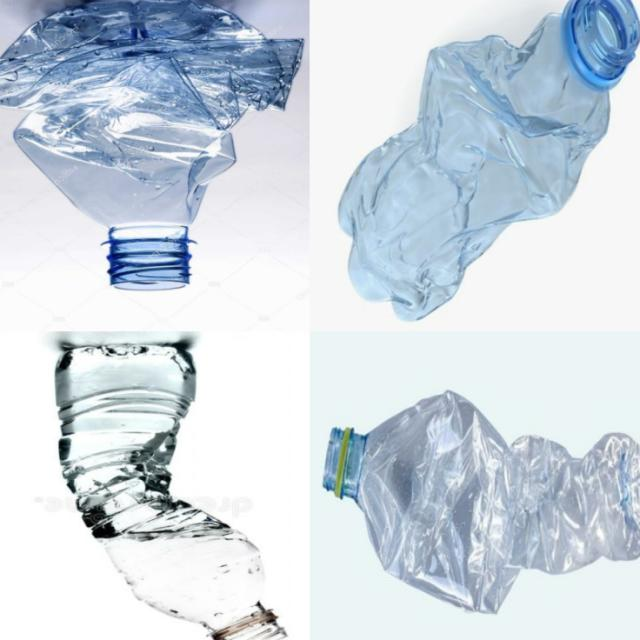plastik: (339, 0, 640, 320), (0, 0, 303, 291), (323, 392, 640, 614), (55, 345, 286, 640)
